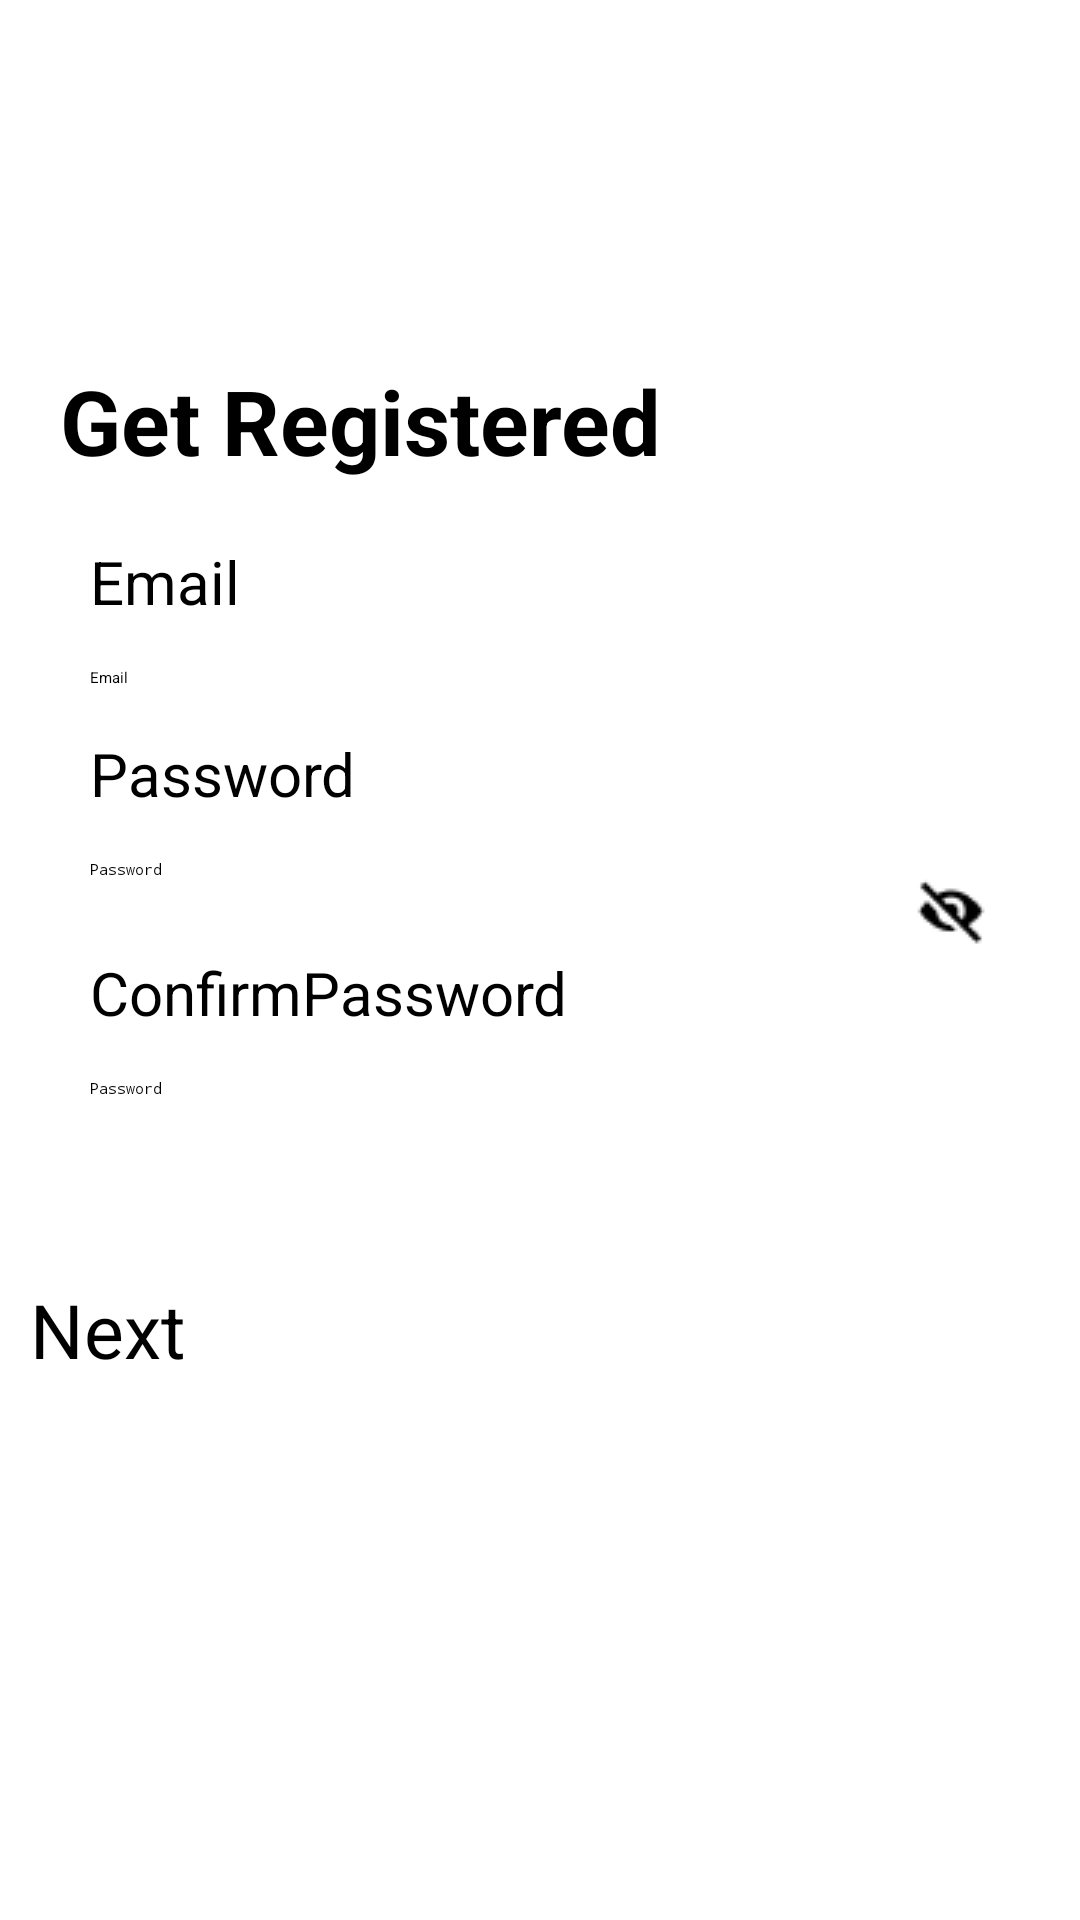

Icon click points for this 1080 × 1920 phone screenshot, format point (x, y):
blind: point (951, 913)
